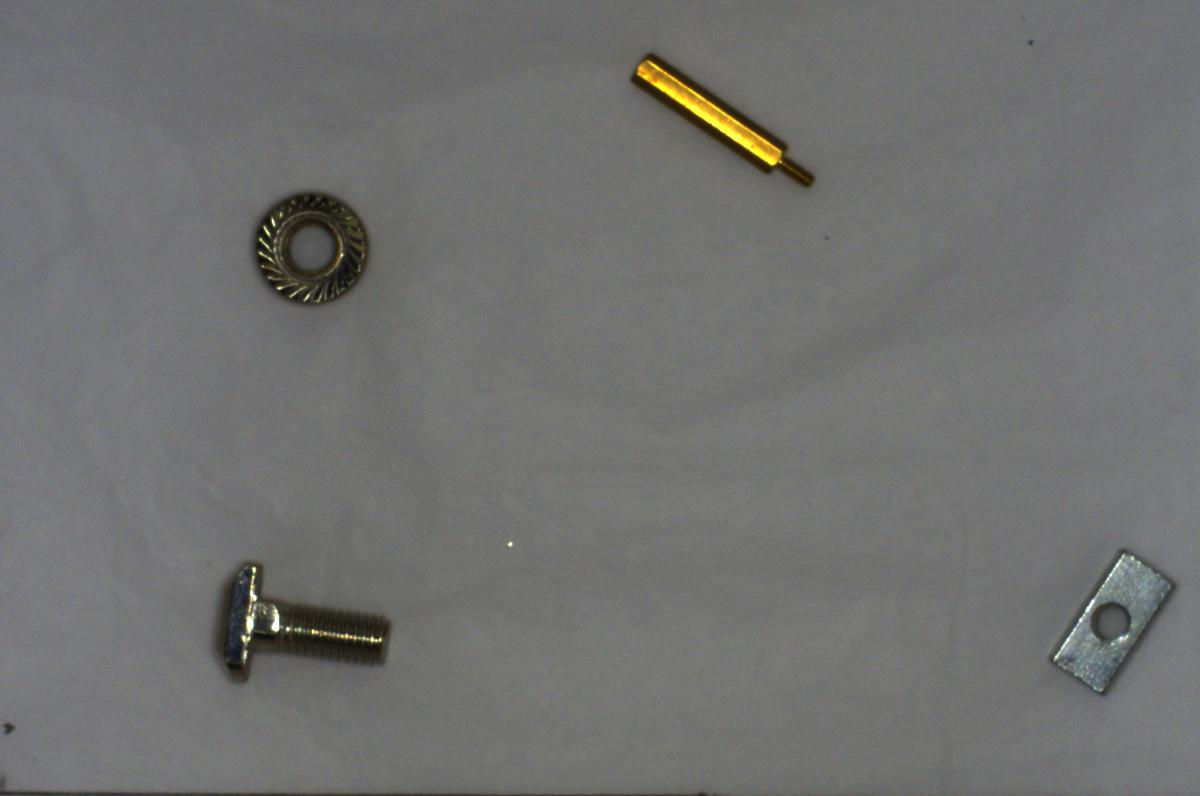Flange nut: (240, 186, 381, 313)
Hexagon pillar: (630, 48, 821, 193)
Rectangular nut: (1048, 538, 1184, 696)
T-shaped screw: (206, 552, 400, 690)
